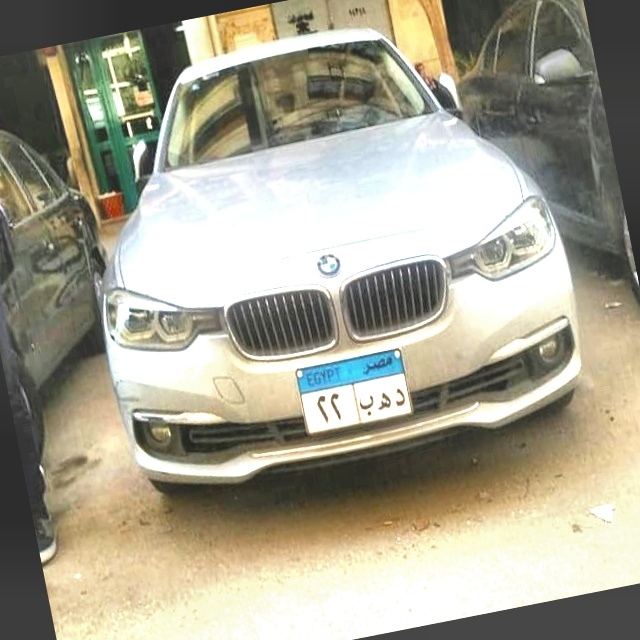License Plate: (292, 345, 417, 439)
